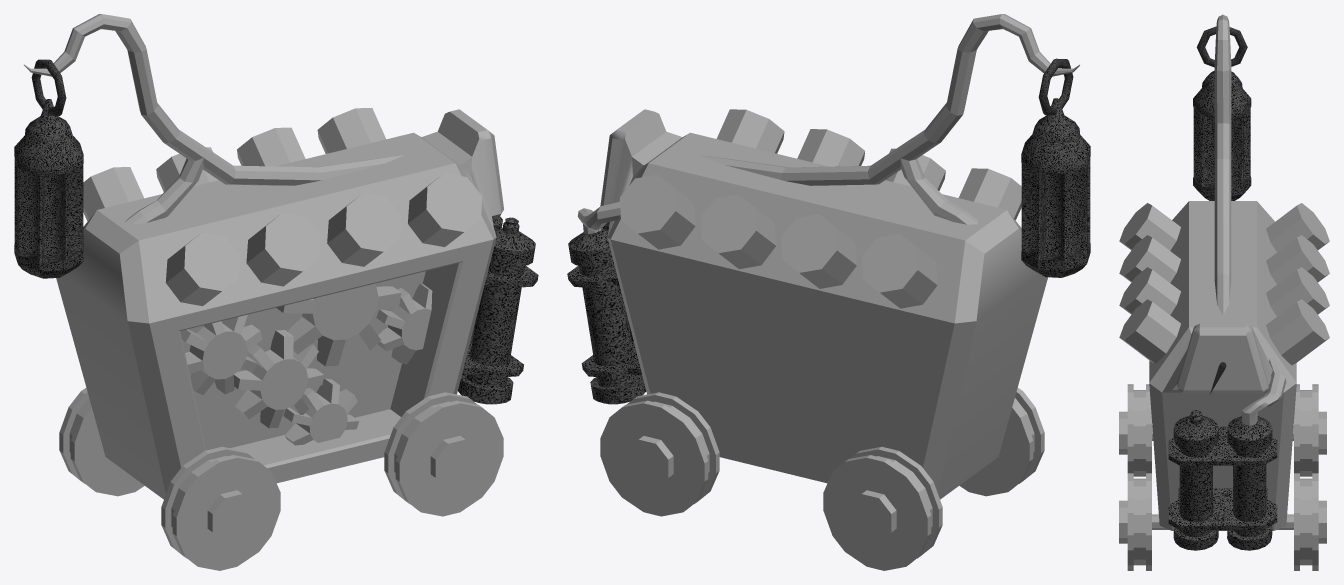
File: Cart.fbx
3 renders of one model, left to right at view 1: azimuth 30°, elevation 25°; view 2: azimuth 150°, elevation 25°; view 3: azimuth 270°, elevation 25°, orthographic. The views are drawn at different scales.
Visible parts, largest first — view 1: pCube3, Front_Wheels, Front_Wheels1, Lantern_Gauge, Fuel_Cell1, pCylinder44, pCylinder40, pCylinder42, pCylinder38, pCylinder47, pCylinder48, pCylinder49 (+9 smaller); view 2: pCube3, Front_Wheels, Front_Wheels1, Lantern_Gauge, pCylinder44, Fuel_Cell1, pCylinder51, pCylinder53, pCylinder52, pCylinder50, pCylinder49, pCylinder26 (+5 smaller); view 3: pCube3, Fuel_Cell1, Front_Wheels1, Front_Wheels, pCylinder44, Lantern_Gauge, pCylinder53, pCylinder49, pCylinder52, pCylinder51, pCylinder50, pCylinder48 (+4 smaller).
Part boxes in pixels (x1,y1,x2,y2): pCube3: [56, 109, 503, 499]; Front_Wheels: [59, 388, 280, 570]; Front_Wheels1: [384, 392, 503, 516]; Lantern_Gauge: [14, 99, 83, 278]; Fuel_Cell1: [458, 216, 538, 404]; pCylinder44: [24, 14, 404, 185]; pCylinder40: [276, 283, 401, 366]; pCylinder42: [233, 330, 323, 428]; pCylinder38: [180, 314, 262, 395]; pCylinder47: [327, 193, 401, 266]; pCylinder48: [246, 212, 320, 286]; pCylinder49: [408, 173, 481, 246]; pCube3: [600, 109, 1047, 499]; Front_Wheels: [823, 388, 1044, 570]; Front_Wheels1: [600, 392, 719, 516]; Lantern_Gauge: [1021, 98, 1090, 277]; pCylinder44: [699, 14, 1079, 185]; Fuel_Cell1: [567, 222, 646, 404]; pCylinder51: [781, 214, 856, 288]; pCylinder53: [620, 174, 695, 249]; pCylinder52: [700, 194, 776, 269]; pCylinder50: [862, 233, 937, 308]; pCylinder49: [716, 109, 784, 153]; pCylinder26: [958, 168, 1021, 220]; pCube3: [1149, 201, 1296, 530]; Fuel_Cell1: [1168, 410, 1277, 550]; Front_Wheels1: [1119, 473, 1326, 570]; Front_Wheels: [1119, 384, 1326, 476]; pCylinder44: [1214, 14, 1231, 315]; Lantern_Gauge: [1193, 70, 1251, 200]; pCylinder53: [1266, 299, 1329, 365]; pCylinder49: [1119, 299, 1180, 363]; pCylinder52: [1266, 267, 1329, 316]; pCylinder51: [1266, 235, 1329, 284]; pCylinder50: [1266, 203, 1329, 252]; pCylinder48: [1119, 235, 1180, 282].
Size of the model in its own units: 1.24 by 1.25 by 0.555.
